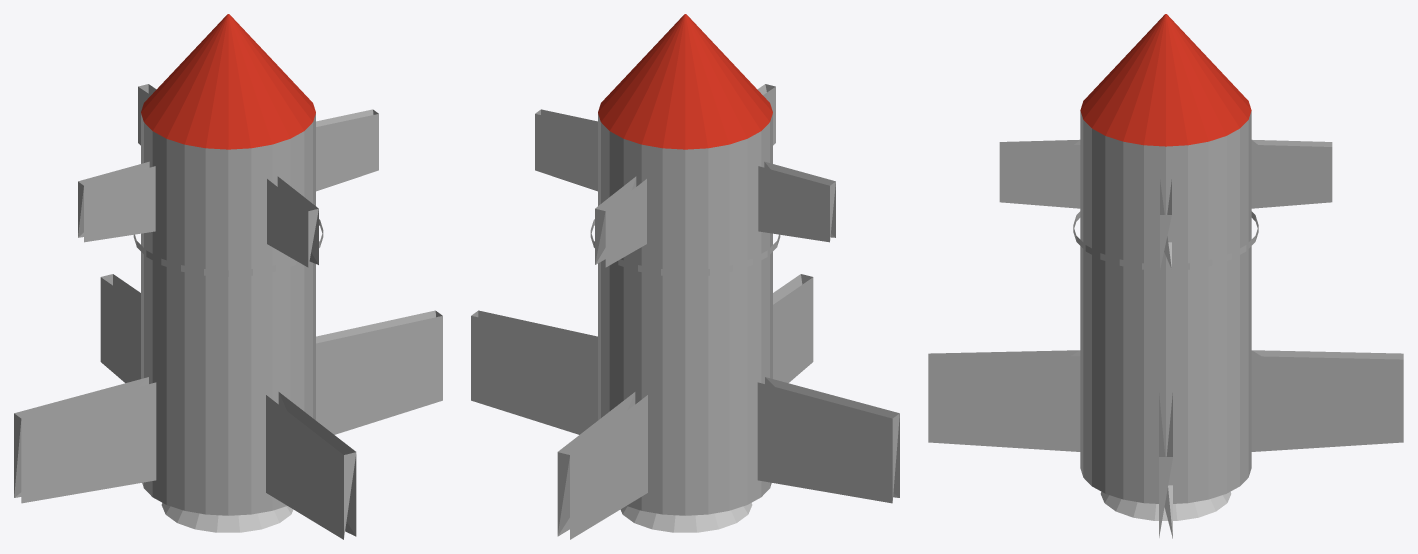
File: sam.obj
3 views of the same model, side by side, from view 1: azimuth 30°, elevation 25°; view 2: azimuth 150°, elevation 25°; view 3: azimuth 270°, elevation 25° (orthographic). The views are drawn at different scales.
Visible parts, largest first — view 1: sam; view 2: sam; view 3: sam.
Part boxes in pixels (x1,y1,x2,y2): sam: (14,14,442,539); sam: (471,14,899,539); sam: (928,14,1403,538).
Size of the model in its own units: 3.44 by 3.82 by 3.44.
